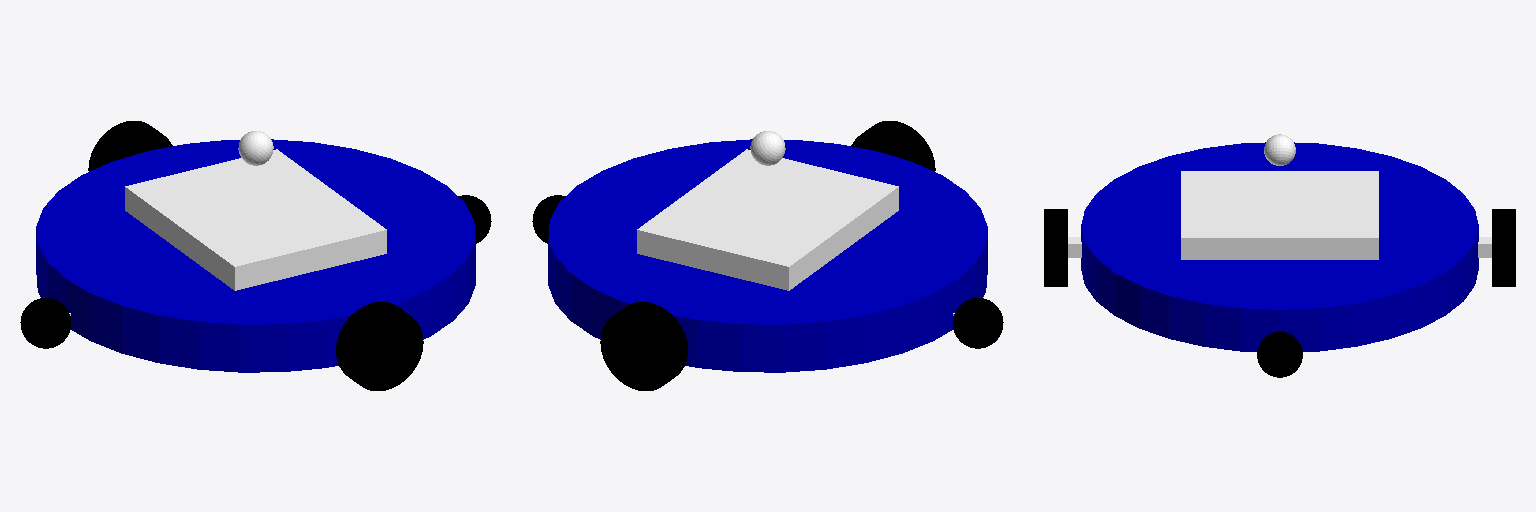
robot.urdf — inexp_rapid1:
<?xml version="1.0"?>
<robot name="inexp_rapid1">
    
<!-- An Indoor Explorer Capable of Rapid Deploy and Fast Moving with Low Central Gravity-->
<!-- Designed with a shape kinda like a vacuum cleaner robot at home -->

  <material name="blue">
    <color rgba="0 0 0.8 1"/>
  </material>
  <material name="black">
    <color rgba="0 0 0 1"/>
  </material>
  <material name="white">
    <color rgba="1 1 1 1"/>
  </material>
  <material name="baby_blue">
    <color rgba="0.54 0.81 0.94 0.8"/>
  </material>
  <material name="magenta">
    <color rgba="1 0 1 1"/>
  </material>
  
<!-- dummy link -->
  <!-- with dummy link we got warnings & errors in RVIZ -->
  <!-- so have eventually eliminated it, more on the appendix -->
  <!--<link name="dummy">
  </link>-->
  
  
  <!-- root link, on the ground just below the model origin -->
  <link name="base_footprint">
   <visual>
      <origin xyz="0 0 0" rpy="0 0 0" />
      <geometry>
        <box size="0.001 0.001 0.001" />
      </geometry>
    </visual>
  </link>

  <joint name="base_link_joint" type="fixed">
    <origin xyz="0.0 0.0 0.049" rpy="0 0 0" />
    <parent link="base_footprint"/>
    <child link="base_link" />
  </joint>
  
  
  <!-- the base link is a 0.25*0.25*0.06 cylinder -->
  <link name="base_link">
    <visual>
      <geometry>
        <cylinder length="0.06" radius="0.25"/>
      </geometry>
      <origin xyz="0 0 0" rpy="0 0 0"/>
      <material name="blue"/>
    </visual>
    <collision>
      <geometry>
        <cylinder length="0.06" radius="0.25"/>
      </geometry>
      <origin xyz="0 0 0" rpy="0 0 0"/>
    </collision>
    <inertial>
      <mass value="10"/>
      <inertia ixx="1.0" ixy="0.0" ixz="0.0" iyy="1.0" iyz="0.0" izz="1.0"/>
    </inertial>
  </link>
  <gazebo reference="base_link">
      <material>Gazebo/Blue</material> 
    </gazebo>
    
<!-- dummy joint dealing with warning The root link_base has an inertia specified in the URDF, but KDL... -->
<!-- as explained above it doesn't work that well so we eliminated it -->
  <!--<joint name="dummy_joint" type="fixed">
    <parent link="dummy"/>
    <child link="base_link"/>
    </joint>-->
  
  <!-- laserstand -->
  <link name="laserstand">
      <visual>
          <geometry>
              <box size="0.2 0.25 0.03"/>
          </geometry>
          <material name="white"/>
      </visual>
      <collision>
          <geometry>
              <box size="0.2 0.25 0.03"/>
          </geometry>
      </collision>
      <inertial>
          <mass value="1"/>
          <inertia ixx="1.0" ixy="0.0" ixz="0.0" iyy="1.0" iyz="0.0" izz="1.0"/>
      </inertial>
  </link>
  <gazebo reference="laserstand">
      <material>Gazebo/White</material>
  </gazebo>
  
  <joint name="base_to_laserstand" type="fixed">
      <parent link="base_link"/>
      <child link="laserstand"/>
      <origin xyz="0 0 0.045" rpy="0 0 0"/> <!-- (0.06/2) + (0.03/2) -->
  </joint>
  
  
  <!-- Hokuyo Laser: appearance and physical properties -->
  <link name="hokuyo_link">
    <collision>
      <geometry>
          <box size="0.1 0.1 0.1"/>
      </geometry>
    </collision>
    <visual>
      <geometry>
        <mesh filename="package://inexp2_description/meshes/hokuyo.dae"/>
      </geometry>
      <material name="black"/>
    </visual>
    <inertial>
      <mass value="1e-5" />
      <origin xyz="0 0 0" rpy="0 0 0"/>
      <inertia ixx="1e-6" ixy="0" ixz="0" iyy="1e-6" iyz="0" izz="1e-6" />
    </inertial>
  </link>
  
  <joint name="hokuyo_joint" type="fixed">
    <parent link="laserstand"/>
    <child link="hokuyo_link"/>
    <!--<axis xyz="0 0 1" />-->
    <origin xyz="0 0 0.05" rpy="0 0 0"/> <!-- (0.1/2) -->
  </joint>
  
  <!-- Hokuyo Laser: for gazebo simulation -->
  <gazebo reference="hokuyo_link">
    <sensor type="ray" name="head_hokuyo_sensor">
      <pose>0 0 0 0 0 0</pose>
      <visualize>true</visualize>
      <update_rate>40</update_rate>
      <ray>
        <scan>
          <horizontal>
            <samples>720</samples>
            <resolution>1</resolution>
            <min_angle>-3.1415926</min_angle> <!--upgraded to 360 degree, simulating in real-life where the laserstand could spin -->
            <max_angle>3.1415926</max_angle>
          </horizontal>
        </scan>
        <range>
          <min>0.10</min>
          <max>30.0</max>
          <resolution>0.001</resolution>
        </range>
        <noise>
          <type>gaussian</type>
          <!-- Noise parameters based on published spec for Hokuyo laser
               achieving "+-30mm" accuracy at range < 10m.  A mean of 0.0m and
               stddev of 0.01m will put 99.7% of samples within 0.03m of the true
               reading. -->
          <mean>0.0</mean>
          <stddev>0.001</stddev>
        </noise>
      </ray>
      <plugin name="gazebo_ros_head_hokuyo_controller" filename="libgazebo_ros_laser.so">
          <topicName>/scan</topicName> <!-- /rrbot/laser/scan -->
        <frameName>hokuyo_link</frameName>
      </plugin>
    </sensor>
  </gazebo>
  
  
  <!-- Camera -->
  <link name="camera_link">
    <collision>
      <origin xyz="0 0 0" rpy="0 0 0"/>
      <geometry>
          <sphere radius="0.02"/>
      </geometry>
    </collision>
    <visual>
      <geometry>
          <sphere radius="0.02"/>
      </geometry>
      <material name="white"/>
    </visual>
    <inertial>
      <mass value="1e-5" />
      <origin xyz="0 0 0" rpy="0 0 0"/>
      <inertia ixx="1e-6" ixy="0" ixz="0" iyy="1e-6" iyz="0" izz="1e-6" />
    </inertial>
  </link>
  
  <joint name="camera_joint" type="fixed">
    <parent link="hokuyo_link"/>
    <child link="camera_link"/>
    <origin xyz="0 0 0.04" rpy="0 -0.785 0"/>
  </joint>
  
  <!-- camera: for gazebo simulation -->
  <gazebo reference="camera_link">
    <material>Gazebo/White</material> 
    <sensor type="camera" name="camera1">
      <update_rate>59.2</update_rate>
      <camera name="head">
          <horizontal_fov>1.09</horizontal_fov> <!-- 1.3962634 -->
        <image>
          <width>720</width>
          <height>720</height>
          <format>R8G8B8</format>
        </image>
        <clip>
          <near>0.02</near>
          <far>300</far>
        </clip>
        <noise>
          <type>gaussian</type>
          <!-- Noise is sampled independently per pixel on each frame.
               That pixel's noise value is added to each of its color
               channels, which at that point lie in the range [0,1]. -->
          <mean>0.0</mean>
          <stddev>0.007</stddev>
        </noise>
      </camera>
      <plugin name="camera_controller" filename="libgazebo_ros_camera.so">
        <alwaysOn>true</alwaysOn>
        <updateRate>0.0</updateRate>
        <cameraName>rrbot/camera1</cameraName>
        <imageTopicName>image_raw</imageTopicName>
        <cameraInfoTopicName>camera_info</cameraInfoTopicName>
        <frameName>camera_link</frameName>
        <hackBaseline>0.07</hackBaseline>
        <distortionK1>0.0</distortionK1>
        <distortionK2>0.0</distortionK2>
        <distortionK3>0.0</distortionK3>
        <distortionT1>0.0</distortionT1>
        <distortionT2>0.0</distortionT2>
      </plugin>
    </sensor>
  </gazebo>

  <!-- junction between the main body (base link) and right wheel -->
  <link name="right_connect">
    <visual>
      <geometry>
          <box size="0.02 0.02 0.02"/> 
      </geometry>
      <material name="white"/>
    </visual>
    <collision>
      <geometry>
        <box size="0.02 0.02 0.02"/>
      </geometry>
    </collision>
    <inertial>
      <mass value="1"/>
      <inertia ixx="1.0" ixy="0.0" ixz="0.0" iyy="1.0" iyz="0.0" izz="1.0"/>
    </inertial>
  </link>
  <gazebo reference="right_connect">
      <material>Gazebo/White</material> 
    </gazebo>

  <joint name="base_to_right_connect" type="fixed">
    <parent link="base_link"/>
    <child link="right_connect"/>
    <origin xyz="0 -0.256 0.00"/>
  </joint>
  
  <!-- the right wheel -->
  <link name="right_wheel">
    <visual>
      <origin rpy="1.57075 0 0" xyz="0 0 0"/>
      <geometry>
          <cylinder length="0.03" radius="0.049"/>
      </geometry>
      <material name="black"/>
    </visual>
    <collision>
      <origin rpy="1.57075 0 0" xyz="0 0 0"/>
      <geometry>
        <cylinder length="0.03" radius="0.049"/>
      </geometry>
    </collision>
    <inertial>
      <mass value="1"/>
      <inertia ixx="1.0" ixy="0.0" ixz="0.0" iyy="1.0" iyz="0.0" izz="1.0"/>
    </inertial>
  </link>
  <gazebo reference="right_wheel">
      <mu1 value="200.0"/>
      <mu2 value="100.0"/>
      <kp value="10000000.0" />
      <kd value="1.0" />
      <material>Gazebo/Black</material> 
    </gazebo>

  <joint name="right_wheel_to_connect" type="continuous">
    <axis rpy="0 0 0" xyz="0 1 0"/>
    <parent link="right_connect"/>
    <child link="right_wheel"/>
    <origin rpy="0 0 0" xyz="0 -0.025 0"/>
  </joint>
  <!-- This block connects the wheel joint to an actuator (motor), which informs both simulation and visualization of the robot -->
  <transmission name="right_wheel_to_connect_trans">
      <type>transmission_interface/SimpleTransmission</type>
      <actuator name="right_wheel_to_connect_motor">
        <mechanicalReduction>1</mechanicalReduction>
      </actuator>
      <joint name="right_wheel_to_connect">
          <hardwareInterface>VelocityJointInterface</hardwareInterface> <!-- hardware_interface/PositionJointInterface -->
      </joint>
    </transmission>
  
  <!-- junction between the main body (base link) and left wheel -->
  <link name="left_connect">
    <visual>
      <geometry>
          <box size="0.02 0.02 0.02"/> 
      </geometry>
      <material name="white"/>
    </visual>
    <collision>
      <geometry>
        <box size="0.02 0.02 0.02"/>
      </geometry>
    </collision>
    <inertial>
      <mass value="1"/>
      <inertia ixx="1.0" ixy="0.0" ixz="0.0" iyy="1.0" iyz="0.0" izz="1.0"/>
    </inertial>
  </link>
  <gazebo reference="left_connect">
      <material>Gazebo/White</material> 
    </gazebo>
  
  <joint name="base_to_left_connect" type="fixed">
    <parent link="base_link"/>
    <child link="left_connect"/>
    <origin xyz="0 +0.256 0.00"/>
  </joint>
  
  <!-- the left wheel -->
  <link name="left_wheel">
    <visual>
      <origin rpy="1.57075 0 0" xyz="0 0 0"/>
      <geometry>
          <cylinder length="0.03" radius="0.049"/>
      </geometry>
      <material name="black"/>
    </visual>
    <collision>
      <origin rpy="1.57075 0 0" xyz="0 0 0"/>
      <geometry>
        <cylinder length="0.03" radius="0.049"/>
      </geometry>
    </collision>
    <inertial>
      <mass value="1"/>
      <inertia ixx="1.0" ixy="0.0" ixz="0.0" iyy="1.0" iyz="0.0" izz="1.0"/>
    </inertial>
  </link>
  <gazebo reference="left_wheel">
      <mu1 value="200.0"/>
      <mu2 value="100.0"/>
      <kp value="10000000.0" />
      <kd value="1.0" />
      <material>Gazebo/Black</material> 
    </gazebo>
  
  <joint name="left_wheel_to_connect" type="continuous">
    <axis rpy="0 0 0" xyz="0 1 0"/>
    <parent link="left_connect"/>
    <child link="left_wheel"/>
    <origin rpy="0 0 0" xyz="0 0.025 0"/>
  </joint>
  
  <!-- This block connects the wheel joint to an actuator (motor), which informs both simulation and visualization of the robot -->
  <transmission name="left_wheel_to_connect_trans">
      <type>transmission_interface/SimpleTransmission</type>
      <actuator name="left_wheel_to_connect_motor">
        <mechanicalReduction>1</mechanicalReduction>
      </actuator>
      <joint name="left_wheel_to_connect">
        <hardwareInterface>VelocityJointInterface</hardwareInterface>
      </joint>
    </transmission>
  
  <!-- junction between the main body (base link) and front caster -->
  <link name="front_connect">
    <visual>
      <geometry>
          <box size="0.02 0.02 0.02"/> 
      </geometry>
      <material name="white"/>
    </visual>
    <collision>
      <geometry>
        <box size="0.02 0.02 0.02"/>
      </geometry>
    </collision>
    <inertial>
      <mass value="1"/>
      <inertia ixx="1.0" ixy="0.0" ixz="0.0" iyy="1.0" iyz="0.0" izz="1.0"/>
    </inertial>
  </link>
  <gazebo reference="front_connect">
      <material>Gazebo/White</material> 
    </gazebo>
  
  <joint name="base_to_front_connect" type="fixed">
    <parent link="base_link"/>
    <child link="front_connect"/>
    <origin xyz="+0.256 0.00 -0.02"/>
  </joint>
  
  <!-- front caster -->
  <link name="front_caster">
    <visual>
      <geometry>
          <sphere radius="0.029"/>
      </geometry>
      <material name="black"/>
    </visual>
    <collision>
      <geometry>
        <sphere radius="0.029"/>
      </geometry>
    </collision>
    <inertial>
      <mass value="1"/>
      <inertia ixx="1.0" ixy="0.0" ixz="0.0" iyy="1.0" iyz="0.0" izz="1.0"/>
    </inertial>
  </link>
  <gazebo reference="front_caster">
      <material>Gazebo/Black</material> 
    </gazebo>
  
  <joint name="front_caster_to_connect" type="continuous">
    <axis rpy="0 0 0" xyz="0 1 0"/>
    <parent link="front_connect"/>
    <child link="front_caster"/>
    <origin rpy="0 0 0" xyz="0.0195 0 0"/>
  </joint>
  
    <!-- junction between the main body (base link) and back caster -->
  <link name="back_connect">
    <visual>
      <geometry>
          <box size="0.02 0.02 0.02"/> 
      </geometry>
      <material name="white"/>
    </visual>
    <collision>
      <geometry>
        <box size="0.02 0.02 0.02"/>
      </geometry>
    </collision>
    <inertial>
      <mass value="1"/>
      <inertia ixx="1.0" ixy="0.0" ixz="0.0" iyy="1.0" iyz="0.0" izz="1.0"/>
    </inertial>
  </link>
  <gazebo reference="back_connect">
      <material>Gazebo/White</material> 
    </gazebo>
  
  <joint name="base_to_back_connect" type="fixed">
    <parent link="base_link"/>
    <child link="back_connect"/>
    <origin xyz="-0.256 0.00 -0.02"/>
  </joint>
  
    <!-- back caster -->
  <link name="back_caster">
    <visual>
      <geometry>
          <sphere radius="0.029"/>
      </geometry>
      <material name="black"/>
    </visual>
    <collision>
      <geometry>
        <sphere radius="0.029"/>
      </geometry>
    </collision>
    <inertial>
      <mass value="1"/>
      <inertia ixx="1.0" ixy="0.0" ixz="0.0" iyy="1.0" iyz="0.0" izz="1.0"/>
    </inertial>
  </link>
  <gazebo reference="back_caster">
      <material>Gazebo/Black</material> 
    </gazebo>
  
  <joint name="back_caster_to_connect" type="continuous">
    <axis rpy="0 0 0" xyz="0 1 0"/>
    <parent link="back_connect"/>
    <child link="back_caster"/>
    <origin rpy="0 0 0" xyz="-0.0195 0 0"/>
  </joint>
  
  
  <!-- Gazebo plugin for ROS Control -->
  <gazebo>
    <plugin name="gazebo_ros_control" filename="libgazebo_ros_control.so">
      <robotNamespace>/</robotNamespace>
      <commandTopic>/r2d2_diff_drive_controller/cmd_vel</commandTopic>
    </plugin>
  </gazebo>

</robot>

--- Render facts (derived) ---
3 views of the same robot in one strip: view 1: azimuth 30°, elevation 25°; view 2: azimuth 150°, elevation 25°; view 3: azimuth 270°, elevation 25° (orthographic).
Robot: inexp_rapid1 — 13 links, 12 joints (4 continuous, 8 fixed); root link base_footprint; default pose: every joint at zero.
Links seen in each view (by area): view 1: base_link, laserstand, right_wheel, left_wheel, back_caster, camera_link, front_caster; view 2: base_link, laserstand, left_wheel, right_wheel, back_caster, camera_link, front_caster; view 3: base_link, laserstand, right_wheel, left_wheel, front_caster, camera_link.
Link boxes in pixels (left/top/right/bottom): base_link: left=36, top=139, right=475, bottom=372; laserstand: left=125, top=149, right=386, bottom=290; right_wheel: left=336, top=302, right=423, bottom=390; left_wheel: left=88, top=121, right=172, bottom=171; back_caster: left=20, top=298, right=70, bottom=348; camera_link: left=238, top=131, right=273, bottom=165; front_caster: left=458, top=195, right=491, bottom=243; base_link: left=548, top=139, right=987, bottom=372; laserstand: left=637, top=149, right=898, bottom=290; left_wheel: left=600, top=302, right=687, bottom=390; right_wheel: left=851, top=121, right=935, bottom=171; back_caster: left=953, top=298, right=1003, bottom=348; camera_link: left=750, top=131, right=785, bottom=165; front_caster: left=532, top=195, right=565, bottom=243; base_link: left=1081, top=142, right=1478, bottom=351; laserstand: left=1181, top=171, right=1378, bottom=259; right_wheel: left=1044, top=209, right=1067, bottom=286; left_wheel: left=1492, top=209, right=1515, bottom=286; front_caster: left=1257, top=332, right=1302, bottom=377; camera_link: left=1264, top=134, right=1295, bottom=165.
Bounding box of the posed robot: 0.609 × 0.592 × 0.2045 m (x, y, z).
0 mesh visuals loaded from 1 distinct referenced files (none loaded); not drawn: 1 (reference not matched to a file when rendering).
